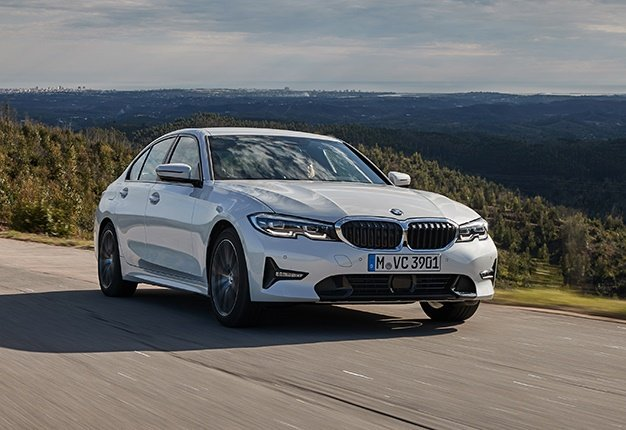car: (95, 122, 495, 321)
